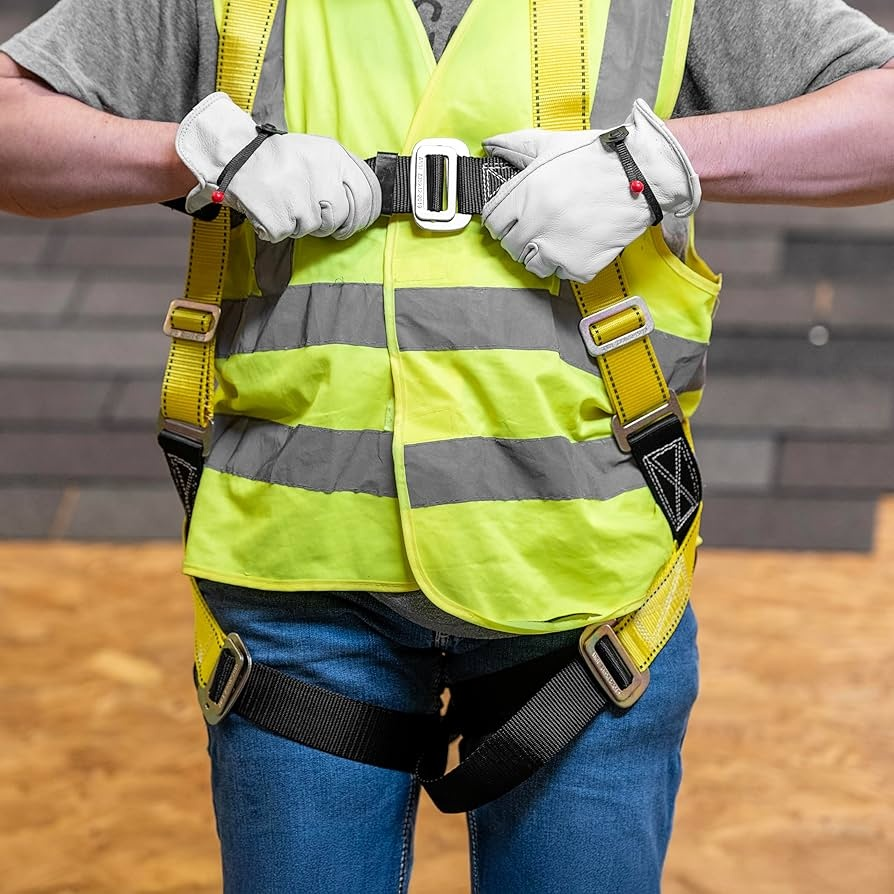Person: (195, 0, 679, 892)
Safety_Harness: (170, 9, 711, 818)
